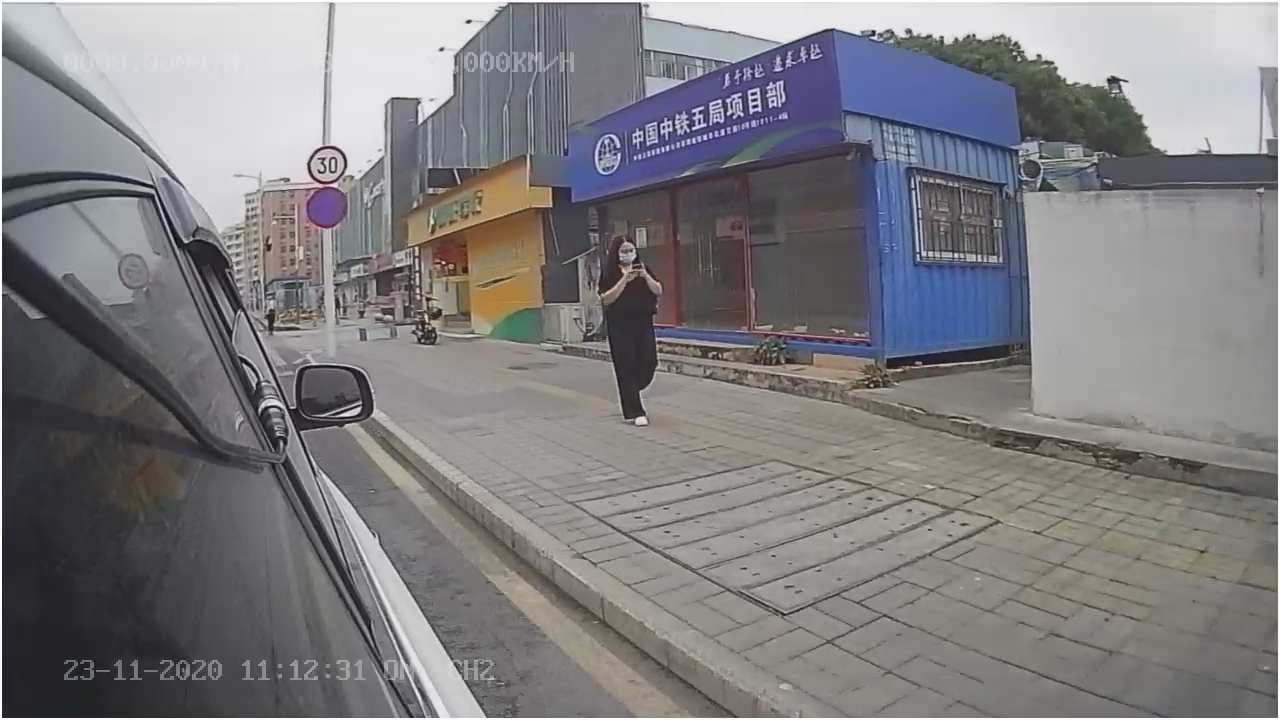person: (588, 228, 668, 435)
